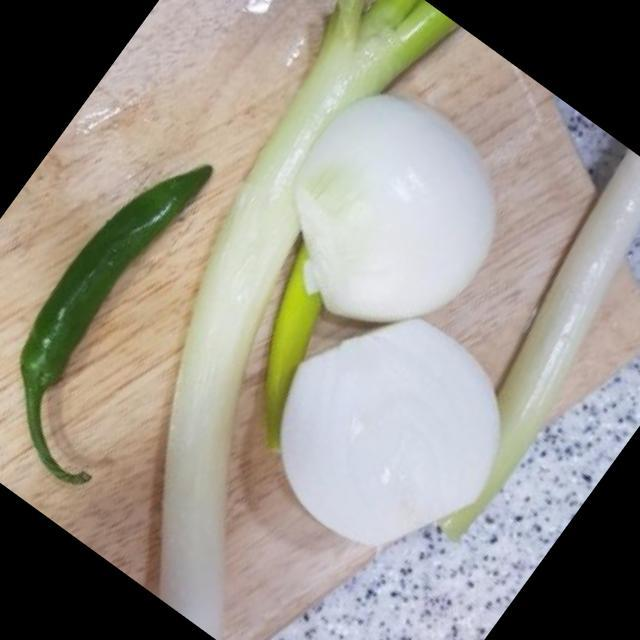Onion: (279, 316, 499, 547), (294, 95, 495, 327)
